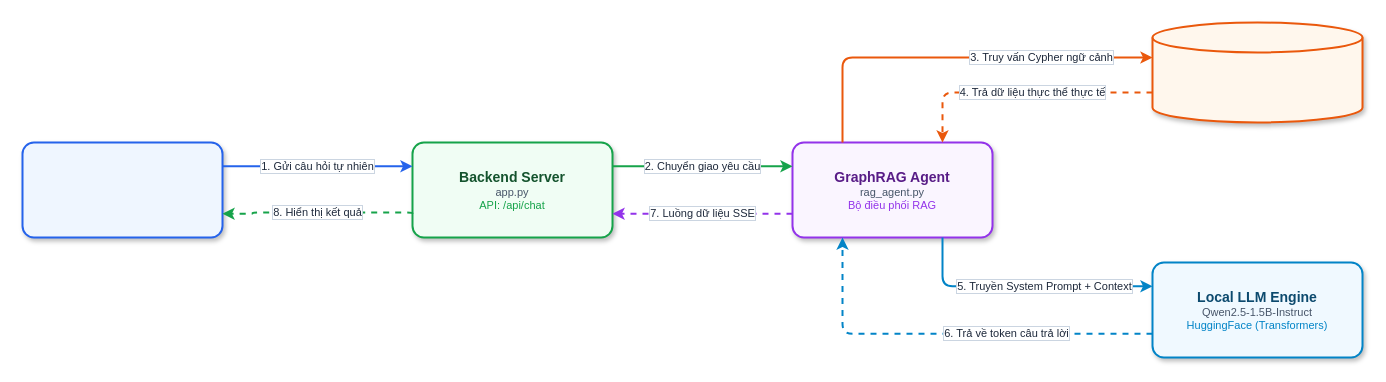
Some shapes in this 1386 by 382 pixel diagram are drawn without their labels. Here are the shapes that lost their labels. From the top down, the centre of each, then its label:
At pixel 1258 73: "CSDL Đồ thị Neo4j Nút POI, Review, Region... Neo4j Graph Database".
At pixel 123 191: "Trình duyệt Du khách Chatbot Widget UI Giao diện Chatbot".
